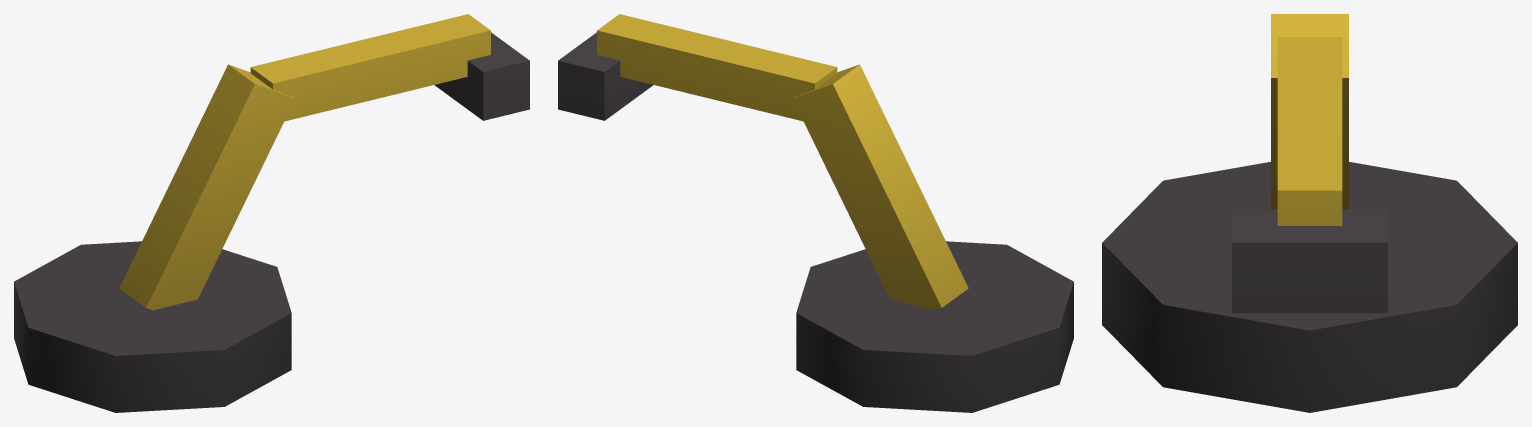
The model's file is inserter.glb.
The picture shows the model from 3 angles, left to right: view 1: azimuth 30°, elevation 25°; view 2: azimuth 150°, elevation 25°; view 3: azimuth 270°, elevation 25°; orthographic projection. The views are drawn at different scales.
Parts seen in each view (by area): view 1: inserter; view 2: inserter; view 3: inserter.
Boxes of the visible parts, x1=… form: inserter: x1=14, y1=14, x2=529, y2=412; inserter: x1=558, y1=14, x2=1073, y2=412; inserter: x1=1102, y1=14, x2=1517, y2=412.
Bounding box in the file's own units: 0.305 × 0.1587 × 0.16.
